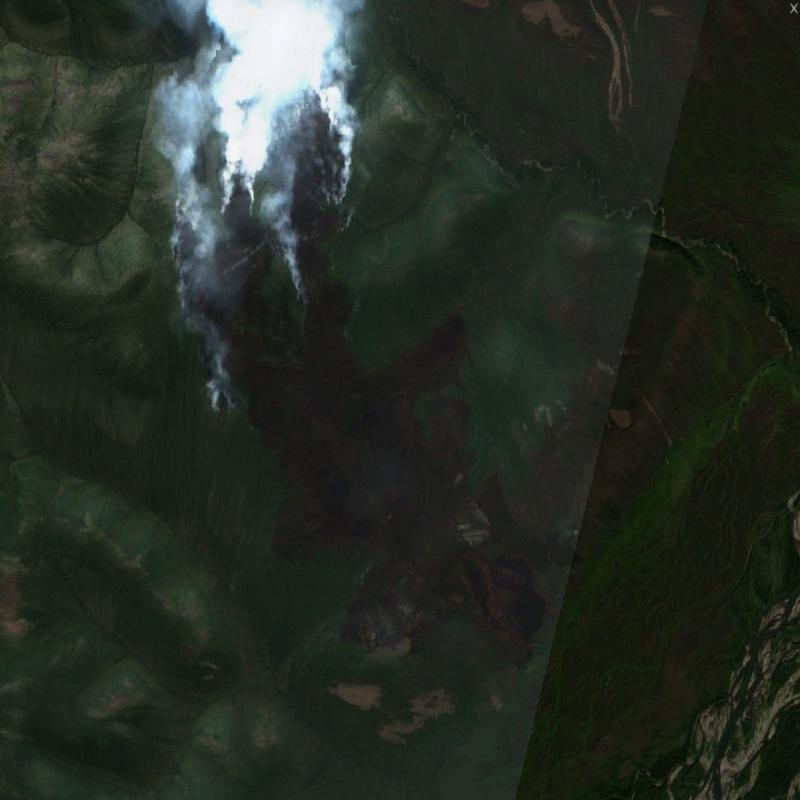fire: (167, 76, 363, 419)
